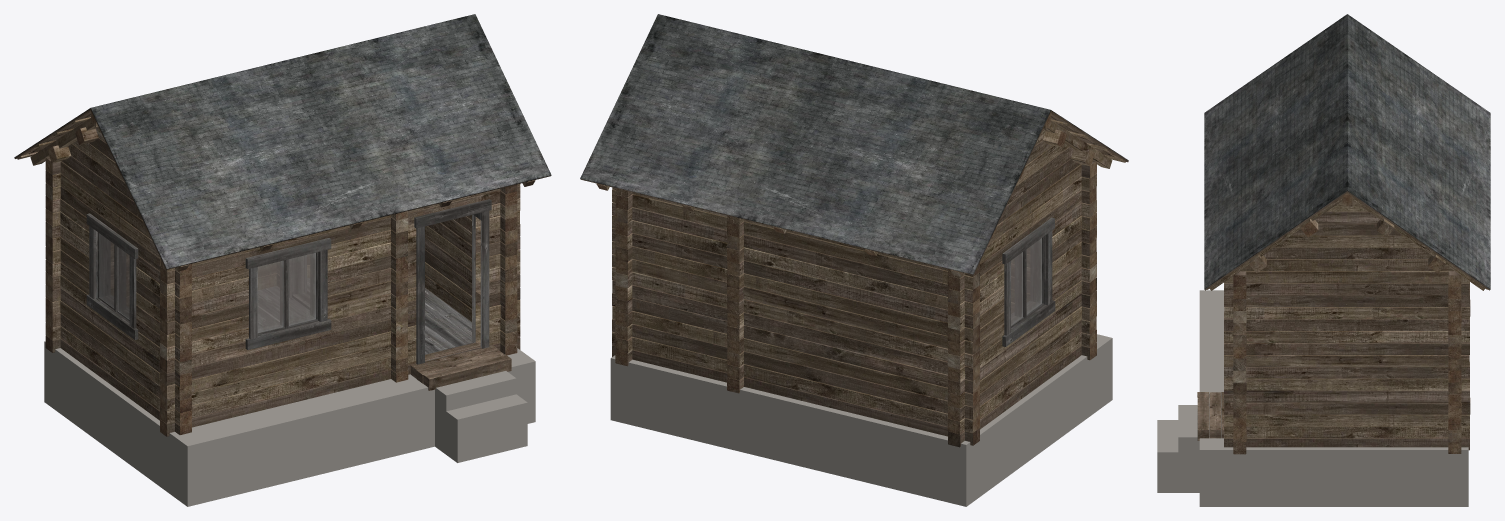
Rendered from log-cabin.access-v8.lod0.glb.
The picture shows the model from 3 angles, left to right: view 1: azimuth 30°, elevation 25°; view 2: azimuth 150°, elevation 25°; view 3: azimuth 270°, elevation 25°; orthographic projection. The views are drawn at different scales.
Parts seen in each view (by area): view 1: Base_Roof_0, Walkable floors and stairs (×2), Base_Wood1a_0, Base_Wood1b_0, Base_Wood2_0, Base_WoodEnds_0, Base_Glass_0; view 2: Base_Roof_0, Base_Wood1a_0, Base_Wood1b_0, Walkable floors and stairs, Base_WoodEnds_0, Base_Wood2_0, Base_Glass_0; view 3: Base_Roof_0, Base_Wood1b_0, Base_Wood1a_0, Walkable floors and stairs (×2), Base_WoodEnds_0.
Boxes of the visible parts, bbox=[...] form: Base_Roof_0: bbox=[14, 14, 551, 268]; Walkable floors and stairs (×2): bbox=[44, 341, 535, 506]; Base_Wood1a_0: bbox=[17, 117, 535, 425]; Base_Wood1b_0: bbox=[14, 108, 550, 436]; Base_Wood2_0: bbox=[86, 199, 491, 364]; Base_WoodEnds_0: bbox=[45, 111, 534, 436]; Base_Glass_0: bbox=[99, 233, 315, 332]; Base_Roof_0: bbox=[580, 14, 1128, 274]; Base_Wood1a_0: bbox=[597, 119, 1125, 433]; Base_Wood1b_0: bbox=[580, 110, 1128, 446]; Walkable floors and stairs: bbox=[610, 334, 1112, 506]; Base_WoodEnds_0: bbox=[596, 113, 1096, 447]; Base_Wood2_0: bbox=[1002, 217, 1055, 346]; Base_Glass_0: bbox=[1011, 238, 1041, 325]; Base_Roof_0: bbox=[1204, 14, 1490, 289]; Base_Wood1b_0: bbox=[1197, 191, 1489, 450]; Base_Wood1a_0: bbox=[1207, 196, 1487, 438]; Walkable floors and stairs (×2): bbox=[1157, 290, 1468, 506]; Base_WoodEnds_0: bbox=[1233, 192, 1461, 454].
Bounding box in the file's own units: 6.3 × 5.41 × 5.03.
Materials: 8 (6 with a texture image).
